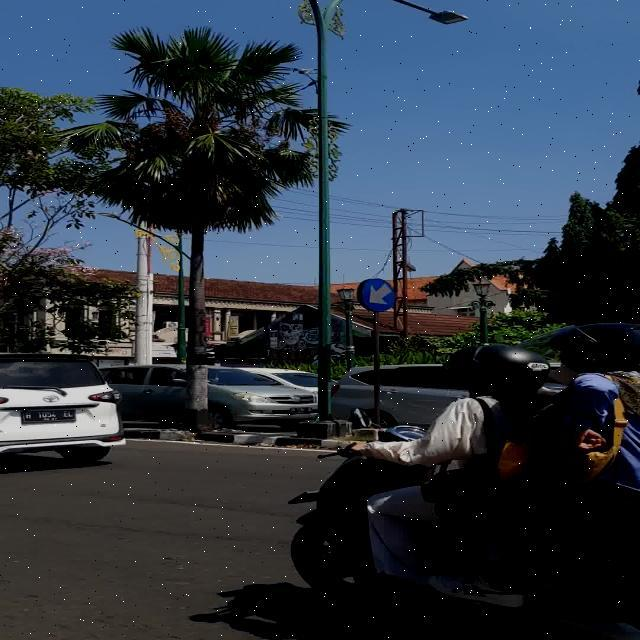Lajur Kiri: (361, 278, 394, 312)
